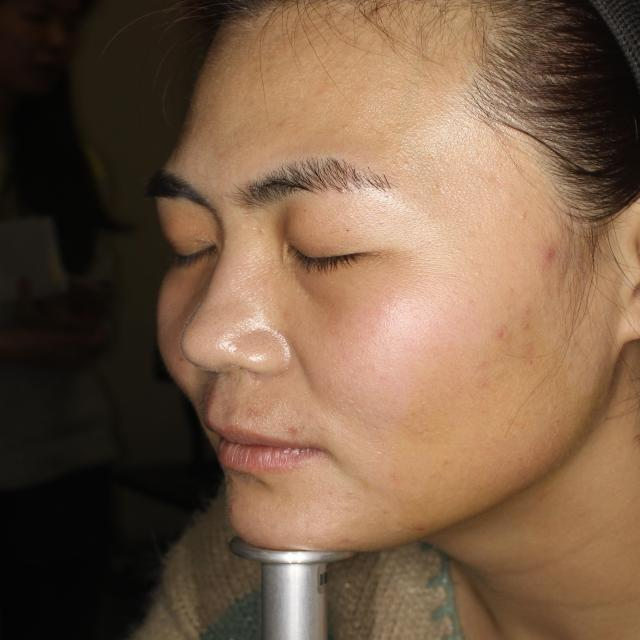acne: (541, 235, 576, 281), (488, 320, 510, 346)
